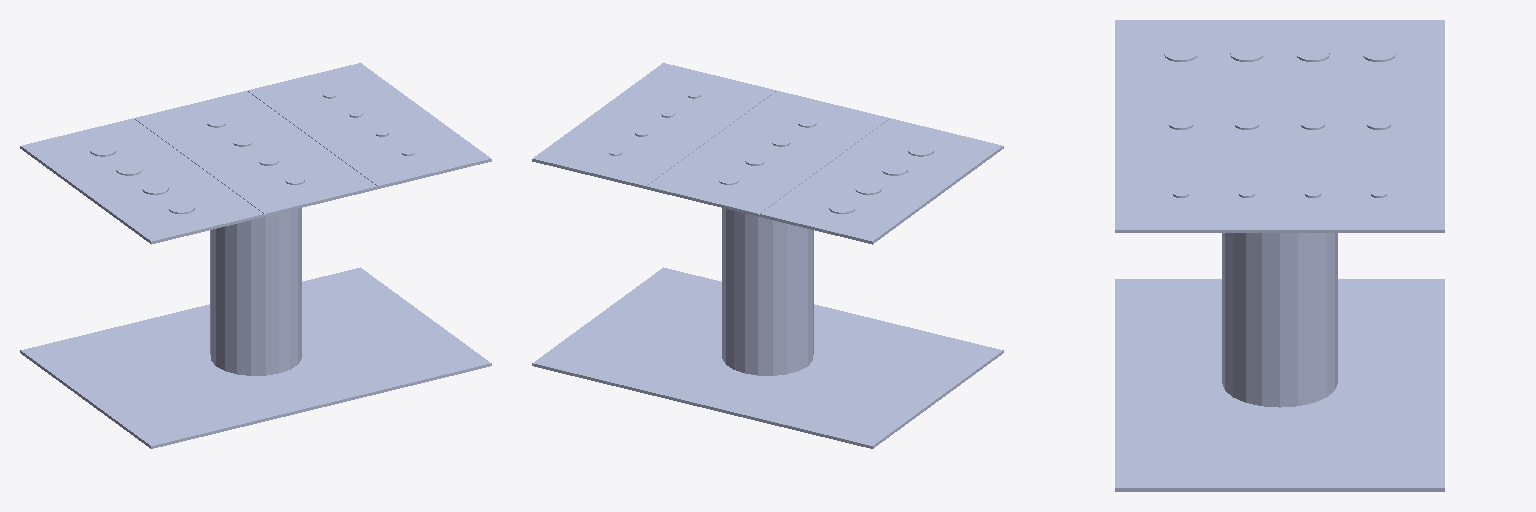
robot.urdf — pick_table_urdf:
<?xml version="1.0"?>
<!-- This URDF was automatically created by SolidWorks to URDF Exporter! Originally created by Stephen Brawner (brawner@gmail.com) 
     Commit Version: v1.6.1-dev1-4-g75b5c6a  Build Version: 1.6.9609.37988
     For more information, please see http://wiki.ros.org/sw_urdf_exporter -->
<robot
  name="pick_table_urdf">
  <link
    name="pick_table_base_link">
    <inertial>
      <origin
        xyz="-1.8874E-15 0.00024765 0.17551"
        rpy="0 0 0" />
      <mass
        value="7.6559" />
      <inertia
        ixx="0.19996"
        ixy="4.867E-16"
        ixz="1.5744E-15"
        iyy="0.16004"
        iyz="6.6394E-05"
        izz="0.11665" />
    </inertial>
    <visual>
      <origin
        xyz="0 0 0"
        rpy="1.57079632679 0 0" />
      <geometry>
        <mesh
          filename="package://pick_table_urdf/meshes/pick_table_base_link.STL" />
      </geometry>
      <material
        name="">
        <color
          rgba="0.79216 0.81961 0.93333 1" />
      </material>
    </visual>
    <collision>
      <origin
        xyz="0 0 0"
        rpy="1.57079632679 0 0" />
      <geometry>
        <mesh
          filename="package://pick_table_urdf/meshes/pick_table_base_link.STL" />
      </geometry>
    </collision>
  </link>
  <link
    name="l_pick_1_link">
    <inertial>
      <origin
        xyz="-1.11022302462516E-16 0 -0.0015"
        rpy="0 0 0" />
      <mass
        value="0.00376991118430776" />
      <inertia
        ixx="3.79818551819006E-07"
        ixy="-1.50463276905253E-36"
        ixz="2.18556993607744E-40"
        iyy="3.79818551819006E-07"
        iyz="2.86985925493726E-40"
        izz="7.53982236861551E-07" />
    </inertial>
    <visual>
      <origin
        xyz="0 0 0"
        rpy="1.57079632679 0 0" />
      <geometry>
        <mesh
          filename="package://pick_table_urdf/meshes/l_pick_1_link.STL" />
      </geometry>
      <material
        name="">
        <color
          rgba="0.792156862745098 0.819607843137255 0.933333333333333 1" />
      </material>
    </visual>
    <collision>
      <origin
        xyz="0 0 0"
        rpy="1.57079632679 0 0" />
      <geometry>
        <mesh
          filename="package://pick_table_urdf/meshes/l_pick_1_link.STL" />
      </geometry>
    </collision>
  </link>
  <joint
    name="l_pick_1_joint  "
    type="fixed">
    <origin
      xyz="-0.2005 -0.12 0.3495"
      rpy="0 0 0" />
    <parent
      link="pick_table_base_link" />
    <child
      link="l_pick_1_link" />
    <axis
      xyz="0 0 0" />
  </joint>
  <link
    name="l_pick_2_link">
    <inertial>
      <origin
        xyz="0 -2.77555756156289E-17 -0.0015"
        rpy="0 0 0" />
      <mass
        value="0.00376991118430776" />
      <inertia
        ixx="3.79818551819006E-07"
        ixy="2.15066959263817E-24"
        ixz="-1.32348898008484E-24"
        iyy="3.79818551819006E-07"
        iyz="-2.25758770713994E-38"
        izz="7.53982236861551E-07" />
    </inertial>
    <visual>
      <origin
        xyz="0 0 0"
        rpy="1.57079632679 0 0" />
      <geometry>
        <mesh
          filename="package://pick_table_urdf/meshes/l_pick_2_link.STL" />
      </geometry>
      <material
        name="">
        <color
          rgba="0.792156862745098 0.819607843137255 0.933333333333333 1" />
      </material>
    </visual>
    <collision>
      <origin
        xyz="0 0 0"
        rpy="1.57079632679 0 0" />
      <geometry>
        <mesh
          filename="package://pick_table_urdf/meshes/l_pick_2_link.STL" />
      </geometry>
    </collision>
  </link>
  <joint
    name="l_pick_2_joint  "
    type="fixed">
    <origin
      xyz="-0.2005 -0.04 0.3495"
      rpy="0 0 0" />
    <parent
      link="pick_table_base_link" />
    <child
      link="l_pick_2_link" />
    <axis
      xyz="0 0 0" />
  </joint>
  <link
    name="l_pick_3_link">
    <inertial>
      <origin
        xyz="0 -2.77555756156289E-17 -0.0015"
        rpy="0 0 0" />
      <mass
        value="0.00376991118430776" />
      <inertia
        ixx="3.79818551819006E-07"
        ixy="-5.1946942468331E-23"
        ixz="1.32348898008486E-24"
        iyy="3.79818551819006E-07"
        iyz="-1.32348898008483E-24"
        izz="7.53982236861551E-07" />
    </inertial>
    <visual>
      <origin
        xyz="0 0 0"
        rpy="1.57079632679 0 0" />
      <geometry>
        <mesh
          filename="package://pick_table_urdf/meshes/l_pick_3_link.STL" />
      </geometry>
      <material
        name="">
        <color
          rgba="0.792156862745098 0.819607843137255 0.933333333333333 1" />
      </material>
    </visual>
    <collision>
      <origin
        xyz="0 0 0"
        rpy="1.57079632679 0 0" />
      <geometry>
        <mesh
          filename="package://pick_table_urdf/meshes/l_pick_3_link.STL" />
      </geometry>
    </collision>
  </link>
  <joint
    name="l_pick_3_joint  "
    type="fixed">
    <origin
      xyz="-0.2005 0.04 0.3495"
      rpy="0 0 0" />
    <parent
      link="pick_table_base_link" />
    <child
      link="l_pick_3_link" />
    <axis
      xyz="0 0 0" />
  </joint>
  <link
    name="l_pick_4_link">
    <inertial>
      <origin
        xyz="-2.22044604925031E-16 0 -0.0015"
        rpy="0 0 0" />
      <mass
        value="0.00376991118430776" />
      <inertia
        ixx="3.79818551819006E-07"
        ixy="4.18553389951835E-23"
        ixz="4.15867755759411E-40"
        iyy="3.79818551819006E-07"
        iyz="-1.79366203433571E-40"
        izz="7.53982236861551E-07" />
    </inertial>
    <visual>
      <origin
        xyz="0 0 0"
        rpy="1.57079632679 0 0" />
      <geometry>
        <mesh
          filename="package://pick_table_urdf/meshes/l_pick_4_link.STL" />
      </geometry>
      <material
        name="">
        <color
          rgba="0.792156862745098 0.819607843137255 0.933333333333333 1" />
      </material>
    </visual>
    <collision>
      <origin
        xyz="0 0 0"
        rpy="1.57079632679 0 0" />
      <geometry>
        <mesh
          filename="package://pick_table_urdf/meshes/l_pick_4_link.STL" />
      </geometry>
    </collision>
  </link>
  <joint
    name="l_pick_4_joint  "
    type="fixed">
    <origin
      xyz="-0.2005 0.12 0.3495"
      rpy="0 0 0" />
    <parent
      link="pick_table_base_link" />
    <child
      link="l_pick_4_link" />
    <axis
      xyz="0 0 0" />
  </joint>
  <link
    name="m_pick_1_link">
    <inertial>
      <origin
        xyz="-1.11022302462516E-16 -2.71050543121376E-18 -0.00150000000000006"
        rpy="0 0 0" />
      <mass
        value="0.00212057504117311" />
      <inertia
        ixx="1.20872777346867E-07"
        ixy="-4.63221143029688E-24"
        ixz="4.13590306276311E-26"
        iyy="1.20872777346867E-07"
        iyz="1.32348898008485E-24"
        izz="2.38564692131975E-07" />
    </inertial>
    <visual>
      <origin
        xyz="0 0 0"
        rpy="1.57079632679 0 0" />
      <geometry>
        <mesh
          filename="package://pick_table_urdf/meshes/m_pick_1_link.STL" />
      </geometry>
      <material
        name="">
        <color
          rgba="0.792156862745098 0.819607843137255 0.933333333333333 1" />
      </material>
    </visual>
    <collision>
      <origin
        xyz="0 0 0"
        rpy="1.57079632679 0 0" />
      <geometry>
        <mesh
          filename="package://pick_table_urdf/meshes/m_pick_1_link.STL" />
      </geometry>
    </collision>
  </link>
  <joint
    name="m_pick_1_joint  "
    type="fixed">
    <origin
      xyz="-0.0005 -0.12 0.3495"
      rpy="0 0 0" />
    <parent
      link="pick_table_base_link" />
    <child
      link="m_pick_1_link" />
    <axis
      xyz="0 0 0" />
  </joint>
  <link
    name="m_pick_2_link">
    <inertial>
      <origin
        xyz="-1.11022302462516E-16 -8.67361737988404E-19 -0.00150000000000006"
        rpy="0 0 0" />
      <mass
        value="0.00212057504117311" />
      <inertia
        ixx="1.20872777346867E-07"
        ixy="5.95570041038165E-24"
        ixz="6.61744490042423E-25"
        iyy="1.20872777346867E-07"
        iyz="9.42238131884332E-39"
        izz="2.38564692131975E-07" />
    </inertial>
    <visual>
      <origin
        xyz="0 0 0"
        rpy="1.57079632679 0 0" />
      <geometry>
        <mesh
          filename="package://pick_table_urdf/meshes/m_pick_2_link.STL" />
      </geometry>
      <material
        name="">
        <color
          rgba="0.792156862745098 0.819607843137255 0.933333333333333 1" />
      </material>
    </visual>
    <collision>
      <origin
        xyz="0 0 0"
        rpy="1.57079632679 0 0" />
      <geometry>
        <mesh
          filename="package://pick_table_urdf/meshes/m_pick_2_link.STL" />
      </geometry>
    </collision>
  </link>
  <joint
    name="m_pick_2_joint  "
    type="fixed">
    <origin
      xyz="-0.0005 -0.04 0.3495"
      rpy="0 0 0" />
    <parent
      link="pick_table_base_link" />
    <child
      link="m_pick_2_link" />
    <axis
      xyz="0 0 0" />
  </joint>
  <link
    name="m_pick_3_link">
    <inertial>
      <origin
        xyz="-1.95156391047391E-18 -1.11022302462516E-16 -0.00150000000000006"
        rpy="0 0 0" />
      <mass
        value="0.00212057504117311" />
      <inertia
        ixx="1.20872777346867E-07"
        ixy="0"
        ixz="4.27780360058115E-40"
        iyy="1.20872777346867E-07"
        iyz="-9.22037316782624E-41"
        izz="2.38564692131975E-07" />
    </inertial>
    <visual>
      <origin
        xyz="0 0 0"
        rpy="1.57079632679 0 0" />
      <geometry>
        <mesh
          filename="package://pick_table_urdf/meshes/m_pick_3_link.STL" />
      </geometry>
      <material
        name="">
        <color
          rgba="0.792156862745098 0.819607843137255 0.933333333333333 1" />
      </material>
    </visual>
    <collision>
      <origin
        xyz="0 0 0"
        rpy="1.57079632679 0 0" />
      <geometry>
        <mesh
          filename="package://pick_table_urdf/meshes/m_pick_3_link.STL" />
      </geometry>
    </collision>
  </link>
  <joint
    name="m_pick_3_joint  "
    type="fixed">
    <origin
      xyz="-0.0005 0.04 0.3495"
      rpy="0 0 0" />
    <parent
      link="pick_table_base_link" />
    <child
      link="m_pick_3_link" />
    <axis
      xyz="0 0 0" />
  </joint>
  <link
    name="m_pick_4_link">
    <inertial>
      <origin
        xyz="0 -2.38524477946811E-18 -0.00150000000000006"
        rpy="0 0 0" />
      <mass
        value="0.00212057504117311" />
      <inertia
        ixx="1.20872777346867E-07"
        ixy="-4.50813433841385E-24"
        ixz="6.61744490042441E-25"
        iyy="1.20872777346867E-07"
        iyz="-1.32348898008484E-24"
        izz="2.38564692131975E-07" />
    </inertial>
    <visual>
      <origin
        xyz="0 0 0"
        rpy="1.57079632679 0 0" />
      <geometry>
        <mesh
          filename="package://pick_table_urdf/meshes/m_pick_4_link.STL" />
      </geometry>
      <material
        name="">
        <color
          rgba="0.792156862745098 0.819607843137255 0.933333333333333 1" />
      </material>
    </visual>
    <collision>
      <origin
        xyz="0 0 0"
        rpy="1.57079632679 0 0" />
      <geometry>
        <mesh
          filename="package://pick_table_urdf/meshes/m_pick_4_link.STL" />
      </geometry>
    </collision>
  </link>
  <joint
    name="m_pick_4_joint  "
    type="fixed">
    <origin
      xyz="-0.0005 0.12 0.3495"
      rpy="0 0 0" />
    <parent
      link="pick_table_base_link" />
    <child
      link="m_pick_4_link" />
    <axis
      xyz="0 0 0" />
  </joint>
  <link
    name="s_pick_1_link">
    <inertial>
      <origin
        xyz="0 2.77555756156289E-17 -0.0015"
        rpy="0 0 0" />
      <mass
        value="0.000942477796076938" />
      <inertia
        ixx="2.42688032489812E-08"
        ixy="6.04875822929345E-25"
        ixz="3.30872245021211E-25"
        iyy="2.42688032489812E-08"
        iyz="4.99871364475451E-39"
        izz="4.71238898038469E-08" />
    </inertial>
    <visual>
      <origin
        xyz="0 0 0"
        rpy="1.57079632679 0 0" />
      <geometry>
        <mesh
          filename="package://pick_table_urdf/meshes/s_pick_1_link.STL" />
      </geometry>
      <material
        name="">
        <color
          rgba="0.792156862745098 0.819607843137255 0.933333333333333 1" />
      </material>
    </visual>
    <collision>
      <origin
        xyz="0 0 0"
        rpy="1.57079632679 0 0" />
      <geometry>
        <mesh
          filename="package://pick_table_urdf/meshes/s_pick_1_link.STL" />
      </geometry>
    </collision>
  </link>
  <joint
    name="s_pick_1_joint  "
    type="fixed">
    <origin
      xyz="0.1995 -0.12 0.3495"
      rpy="0 0 0" />
    <parent
      link="pick_table_base_link" />
    <child
      link="s_pick_1_link" />
    <axis
      xyz="0 0 0" />
  </joint>
  <link
    name="s_pick_2_link">
    <inertial>
      <origin
        xyz="0 -2.77555756156289E-17 -0.0015"
        rpy="0 0 0" />
      <mass
        value="0.000942477796076938" />
      <inertia
        ixx="2.42688032489812E-08"
        ixy="1.23043116117263E-24"
        ixz="-8.98434814995804E-40"
        iyy="2.42688032489812E-08"
        iyz="1.65436122510606E-25"
        izz="4.71238898038469E-08" />
    </inertial>
    <visual>
      <origin
        xyz="0 0 0"
        rpy="1.57079632679 0 0" />
      <geometry>
        <mesh
          filename="package://pick_table_urdf/meshes/s_pick_2_link.STL" />
      </geometry>
      <material
        name="">
        <color
          rgba="0.792156862745098 0.819607843137255 0.933333333333333 1" />
      </material>
    </visual>
    <collision>
      <origin
        xyz="0 0 0"
        rpy="1.57079632679 0 0" />
      <geometry>
        <mesh
          filename="package://pick_table_urdf/meshes/s_pick_2_link.STL" />
      </geometry>
    </collision>
  </link>
  <joint
    name="s_pick_2_joint  "
    type="fixed">
    <origin
      xyz="0.1995 -0.04 0.3495"
      rpy="0 0 0" />
    <parent
      link="pick_table_base_link" />
    <child
      link="s_pick_2_link" />
    <axis
      xyz="0 0 0" />
  </joint>
  <link
    name="s_pick_3_link">
    <inertial>
      <origin
        xyz="0 -2.77555756156289E-17 -0.0015"
        rpy="0 0 0" />
      <mass
        value="0.000942477796076939" />
      <inertia
        ixx="2.42688032489812E-08"
        ixy="0"
        ixz="2.73196242009684E-41"
        iyy="2.42688032489812E-08"
        iyz="3.88263788480385E-55"
        izz="4.71238898038469E-08" />
    </inertial>
    <visual>
      <origin
        xyz="0 0 0"
        rpy="1.57079632679 0 0" />
      <geometry>
        <mesh
          filename="package://pick_table_urdf/meshes/s_pick_3_link.STL" />
      </geometry>
      <material
        name="">
        <color
          rgba="0.792156862745098 0.819607843137255 0.933333333333333 1" />
      </material>
    </visual>
    <collision>
      <origin
        xyz="0 0 0"
        rpy="1.57079632679 0 0" />
      <geometry>
        <mesh
          filename="package://pick_table_urdf/meshes/s_pick_3_link.STL" />
      </geometry>
    </collision>
  </link>
  <joint
    name="s_pick_3_joint  "
    type="fixed">
    <origin
      xyz="0.1995 0.04 0.3495"
      rpy="0 0 0" />
    <parent
      link="pick_table_base_link" />
    <child
      link="s_pick_3_link" />
    <axis
      xyz="0 0 0" />
  </joint>
  <link
    name="s_pick_4_link">
    <inertial>
      <origin
        xyz="0 0 -0.0015"
        rpy="0 0 0" />
      <mass
        value="0.000942477796076939" />
      <inertia
        ixx="2.42688032489812E-08"
        ixy="1.15805285757424E-24"
        ixz="2.80259692864963E-40"
        iyy="2.42688032489812E-08"
        iyz="-1.09103454646969E-40"
        izz="4.71238898038469E-08" />
    </inertial>
    <visual>
      <origin
        xyz="0 0 0"
        rpy="1.57079632679 0 0" />
      <geometry>
        <mesh
          filename="package://pick_table_urdf/meshes/s_pick_4_link.STL" />
      </geometry>
      <material
        name="">
        <color
          rgba="0.792156862745098 0.819607843137255 0.933333333333333 1" />
      </material>
    </visual>
    <collision>
      <origin
        xyz="0 0 0"
        rpy="1.57079632679 0 0" />
      <geometry>
        <mesh
          filename="package://pick_table_urdf/meshes/s_pick_4_link.STL" />
      </geometry>
    </collision>
  </link>
  <joint
    name="s_pick_4_joint  "
    type="fixed">
    <origin
      xyz="0.1995 0.12 0.3495"
      rpy="0 0 0" />
    <parent
      link="pick_table_base_link" />
    <child
      link="s_pick_4_link" />
    <axis
      xyz="0 0 0" />
  </joint>
<gazebo>
  <static>true</static>
</gazebo>

</robot>

--- What the picture shows (computed from the rendered views, not written in the file) ---
The picture shows the robot from 3 angles, left to right: view 1: azimuth 30°, elevation 25°; view 2: azimuth 150°, elevation 25°; view 3: azimuth 270°, elevation 25°; orthographic projection.
Model pick_table_urdf with 13 links and 12 joints (12 fixed), rooted at pick_table_base_link, posed all joints at 0.
Visible links, largest first — view 1: pick_table_base_link; view 2: pick_table_base_link; view 3: pick_table_base_link.
Link boxes in pixels (x1,y1,x2,y2): pick_table_base_link: (20,63,491,448); pick_table_base_link: (532,63,1003,448); pick_table_base_link: (1115,20,1444,491).
Bounding box of the posed robot: 0.6 × 0.4 × 0.3525 m (x, y, z).
13 mesh visuals loaded from 13 distinct referenced files (13 binary STL).
